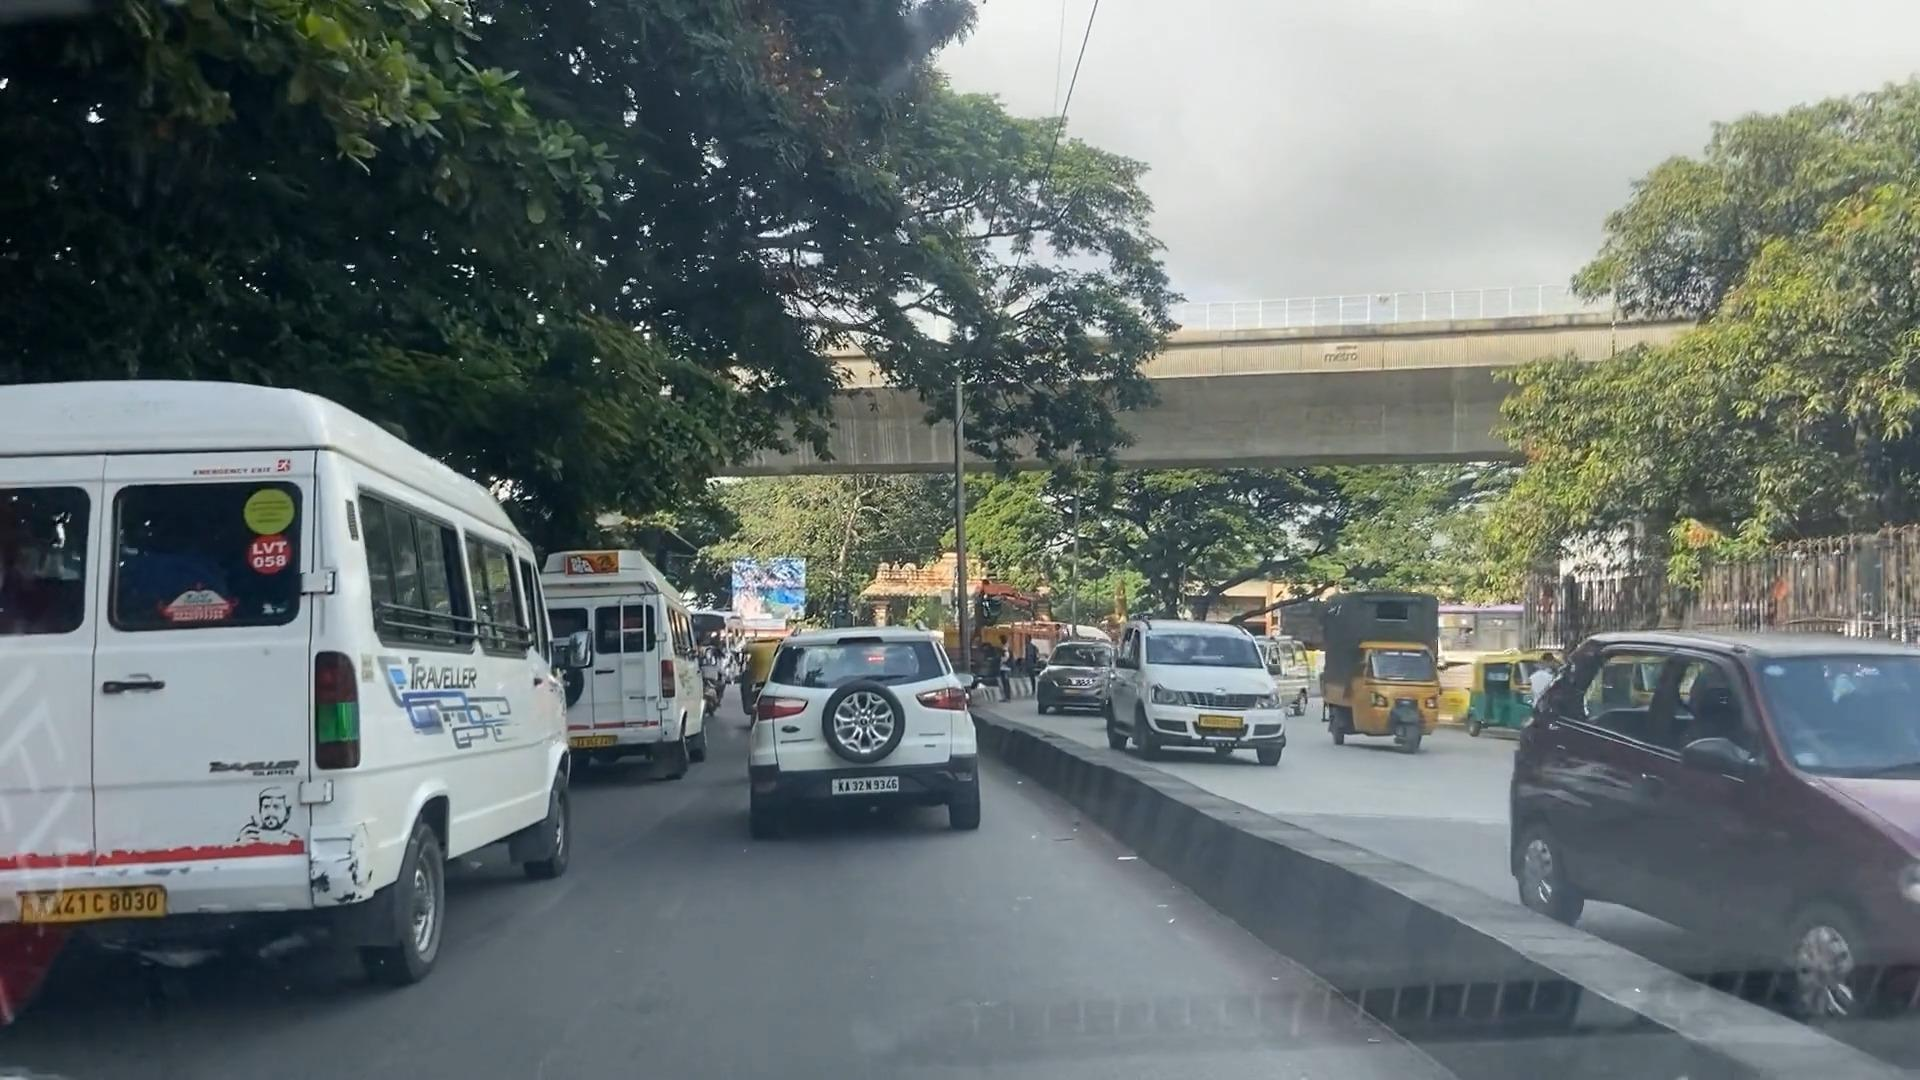HMV: (0, 388, 555, 976), (549, 550, 707, 769)
LMV: (770, 630, 989, 823)
